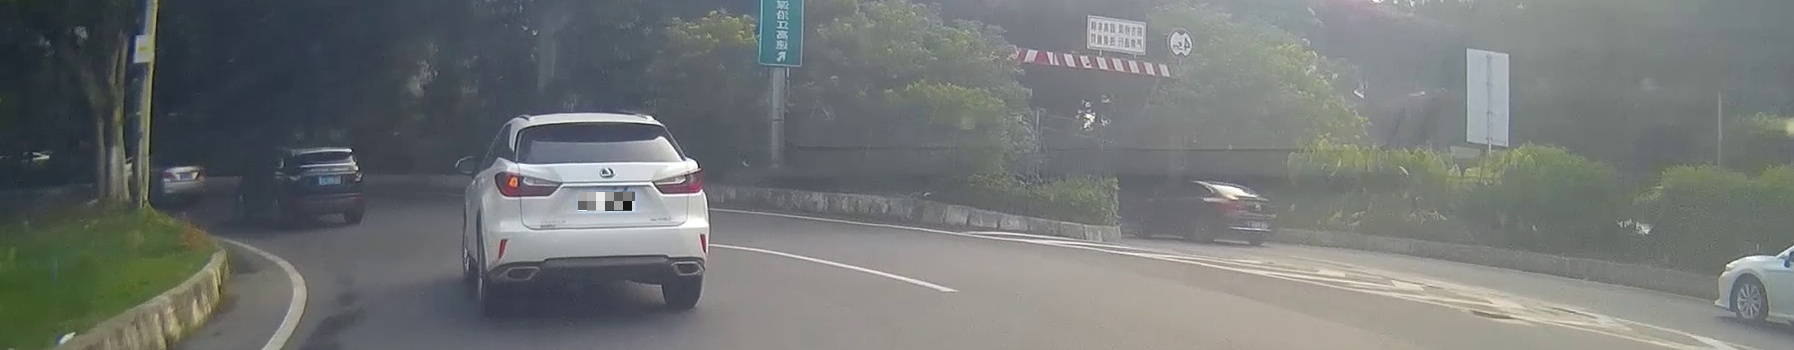L_light: (494, 172, 562, 198), (287, 174, 302, 183)
R_light: (652, 168, 702, 194), (349, 173, 363, 181)
T_light: (585, 122, 612, 128), (318, 151, 332, 156)
day-left: (490, 112, 709, 315)
day-no: (286, 148, 364, 226)
plate_1: (578, 192, 635, 210)
